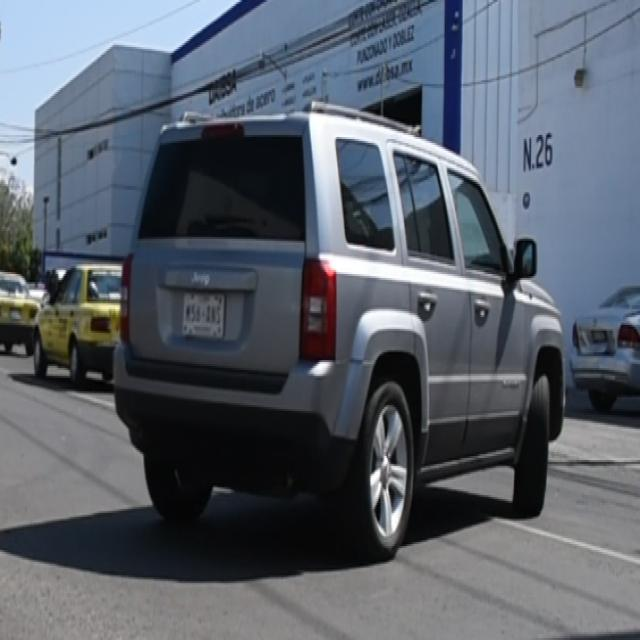placa: (183, 301, 224, 326)
